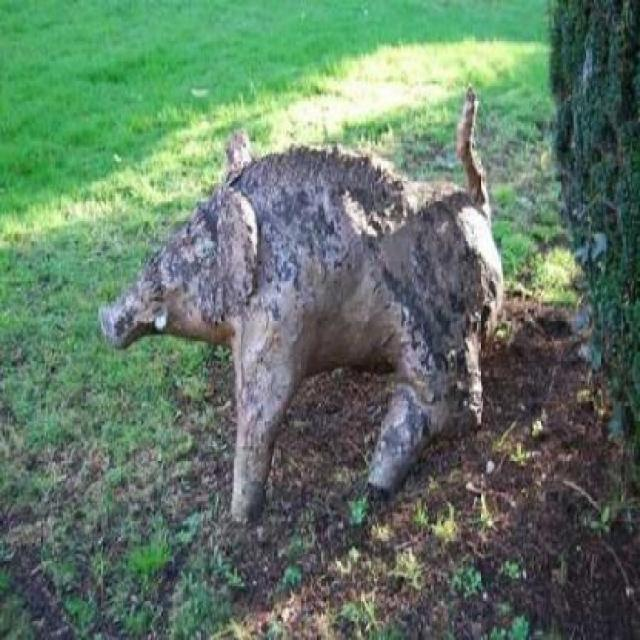pig: (48, 111, 512, 541)
